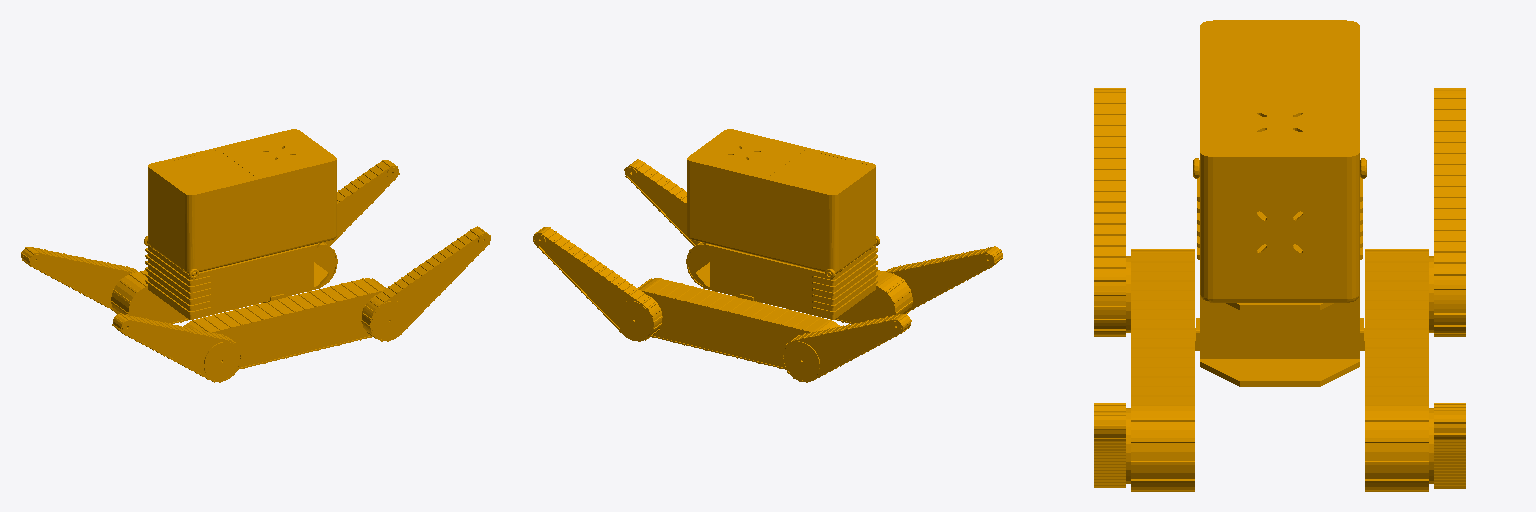
The robot description file, URDF, robot "ground_rover":
  <robot name="ground_rover">
  <link name="base_link">
<!-- name="body" -->
    <visual>
      <origin rpy="0 0 0" xyz="0.15 0 1.00"/>
      <geometry>
        <mesh filename="package://alpine_scenario/models/bluebotics.dae"/>
      </geometry>
    </visual>
    <collision>
     <geometry>
       <mesh filename="package://alpine_scenario/models/bluebotics.dae"/>
     </geometry>
   <origin rpy="1.4 0 0" xyz="0 0 0" />
    </collision>
   <inertial>
     <mass value="1" />
	<inertia ixx="1.0" ixy="0.0" ixz="0.0" iyy="1.0" iyz="0.0" izz="1.0" />
   </inertial>
   </link>

 <gazebo>
     <static>true</static>
   </gazebo>

</robot>

--- Render facts (derived) ---
The picture shows the robot from 3 angles, left to right: view 1: azimuth 30°, elevation 25°; view 2: azimuth 150°, elevation 25°; view 3: azimuth 270°, elevation 25°; orthographic projection.
Model ground_rover with 1 links and 0 joints (none), rooted at base_link, posed every joint at zero.
Links seen in each view (by area): view 1: base_link; view 2: base_link; view 3: base_link.
Boxes of the visible links, bbox=[...] form: base_link: bbox=[21, 129, 490, 382]; base_link: bbox=[533, 129, 1002, 382]; base_link: bbox=[1094, 20, 1465, 491].
Size in the robot's own frame: 1.53 by 0.7176 by 0.6625 metres.
Meshes: 1 distinct files referenced, 1 mesh visuals loaded (1 Collada DAE).